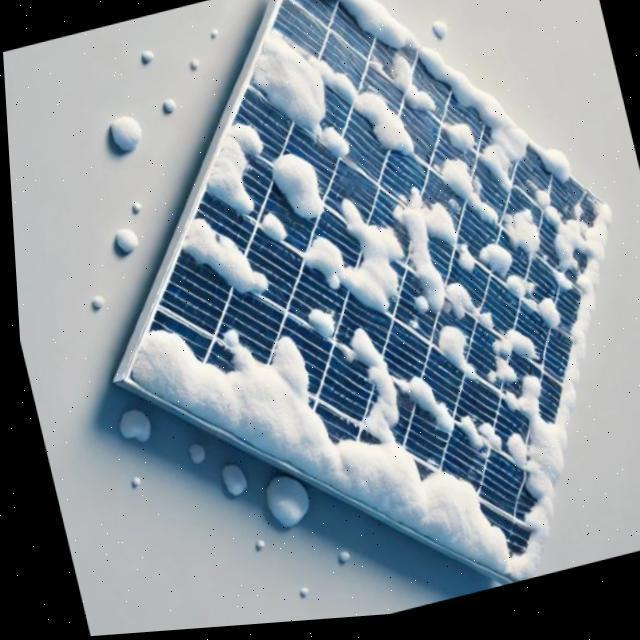Anomaly Solar Panel: (83, 0, 640, 589)
Snow: (118, 241, 570, 583), (466, 188, 610, 591), (321, 0, 574, 225), (233, 20, 427, 197), (290, 195, 427, 329), (387, 181, 491, 353), (381, 367, 506, 472), (169, 214, 275, 309), (431, 153, 503, 244), (199, 123, 265, 218), (365, 45, 442, 123), (265, 151, 323, 228), (424, 325, 481, 396), (481, 336, 534, 394), (494, 211, 545, 269), (471, 245, 513, 285), (442, 119, 478, 161), (300, 305, 338, 343), (529, 300, 559, 336), (255, 214, 285, 247), (450, 248, 476, 283), (500, 276, 531, 305)
